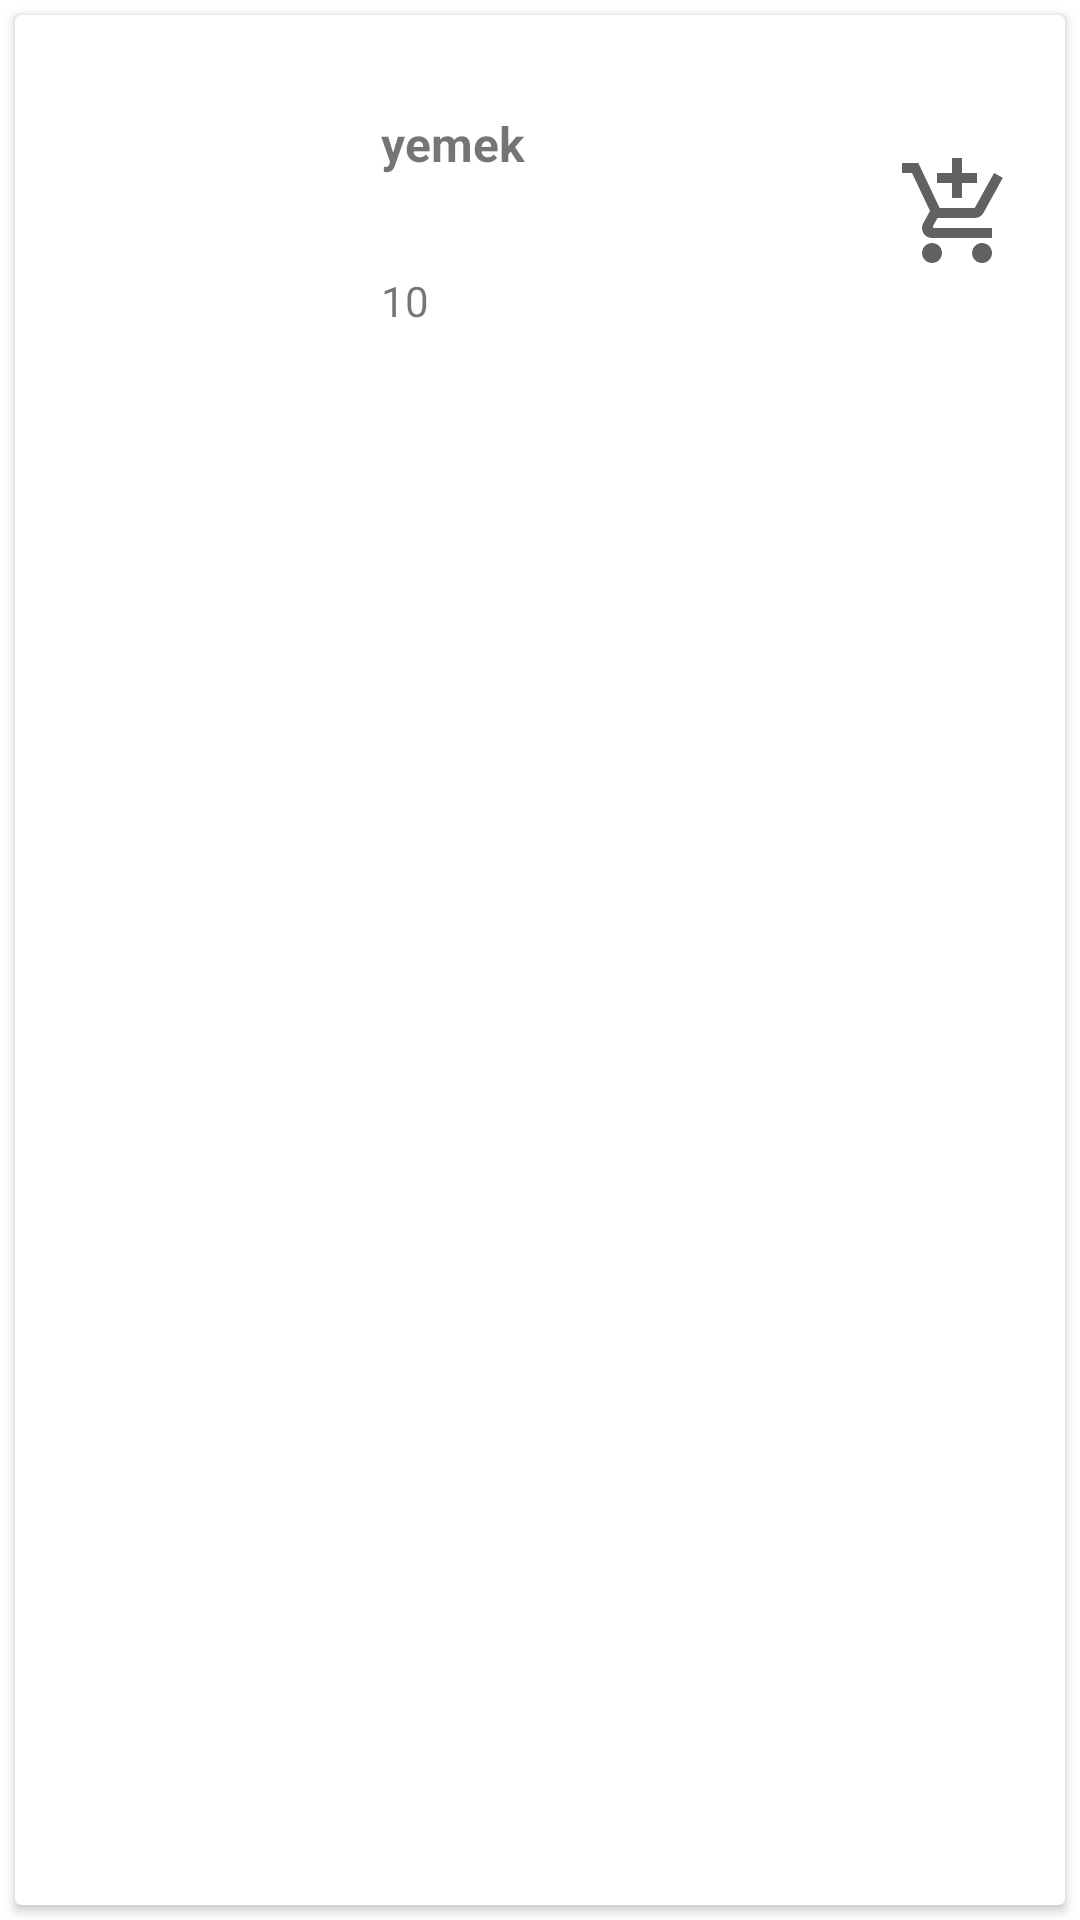

Where to tap for icons on this 1080px×1920px app screen, as [x,y]:
sepet add: [952,210]
